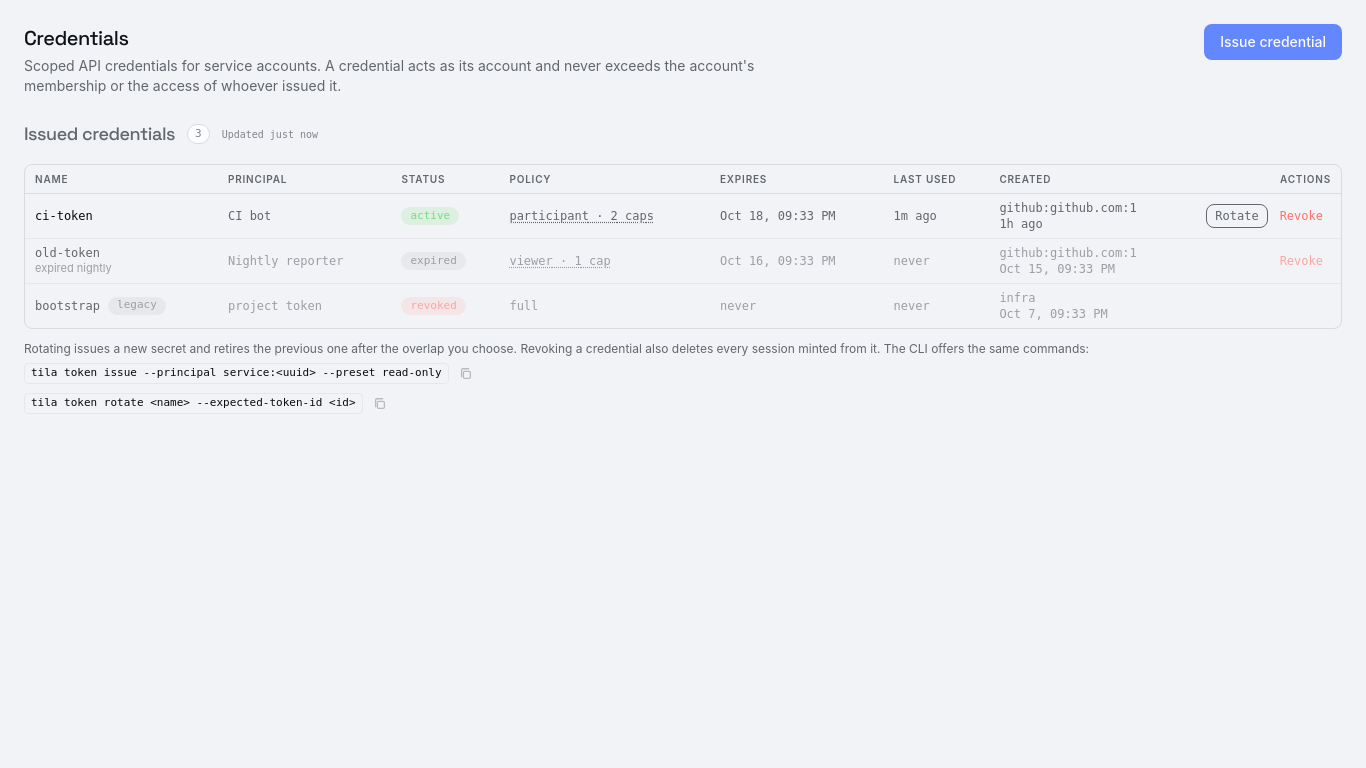
Scenario: rotation sends the listed version and shows the new secret once
Step 1. Click the button with aria-label "Rotate ci-token" → [1237, 216], box x1=1206 y1=204 x2=1268 y2=228
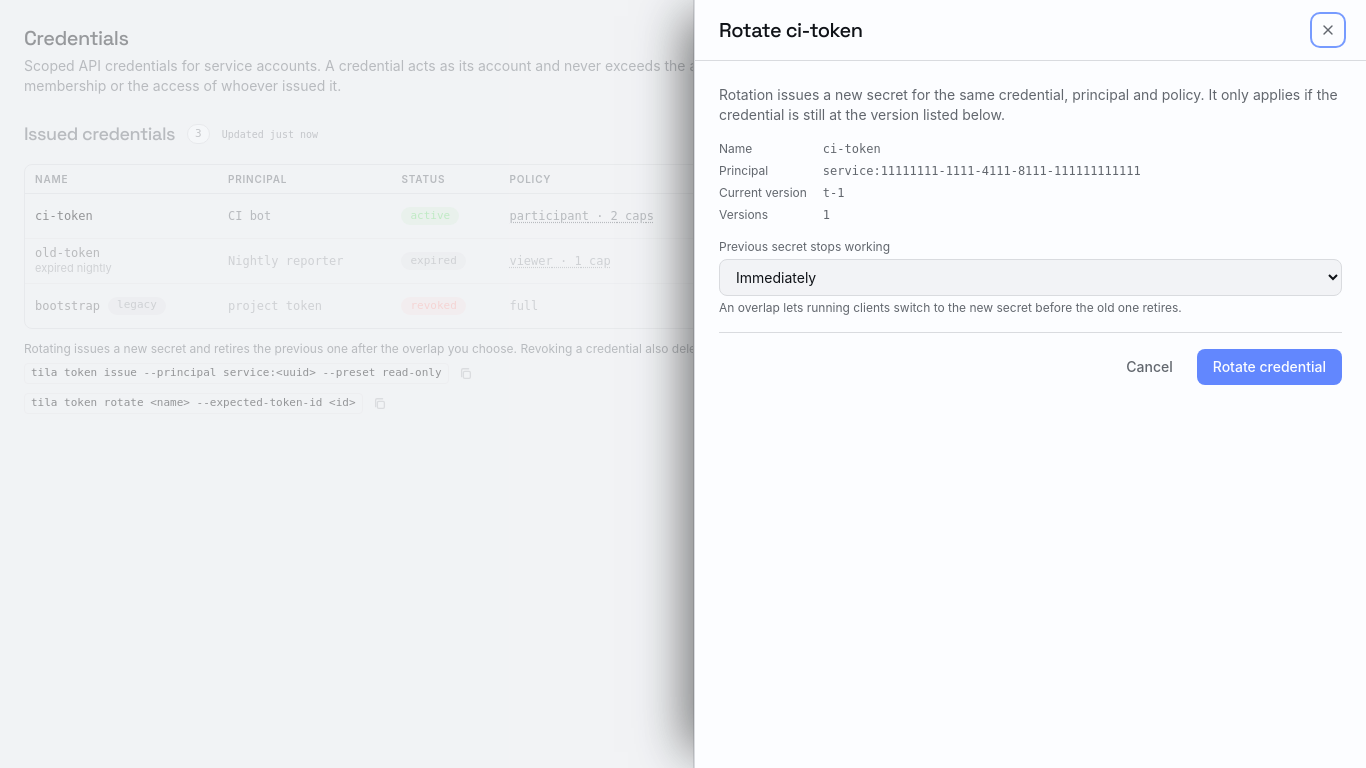
Step 2. Select "After 1 hour" in the dropdown labelled "Previous secret stops working" → [1030, 278], box x1=719 y1=259 x2=1342 y2=296
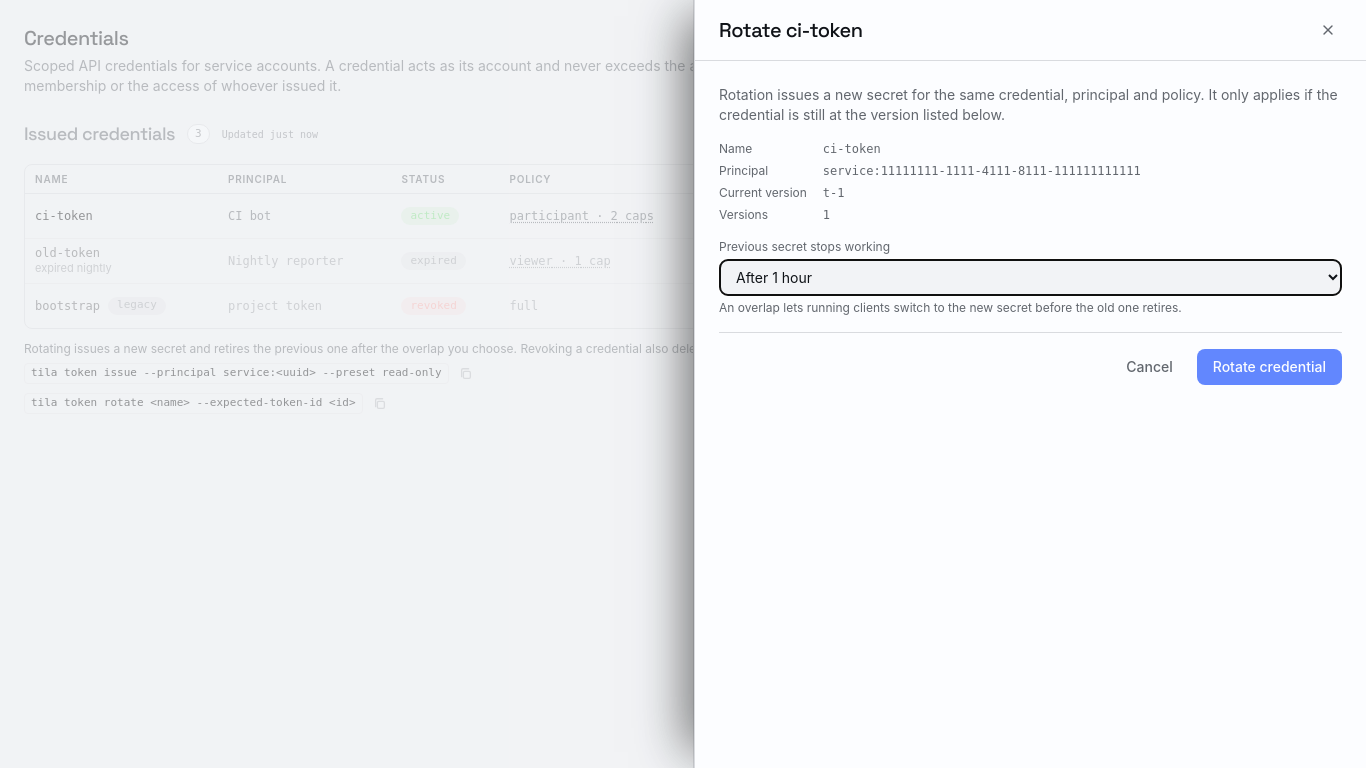
Step 3. Click the button "Rotate credential" → [1269, 367], box x1=1197 y1=349 x2=1342 y2=385
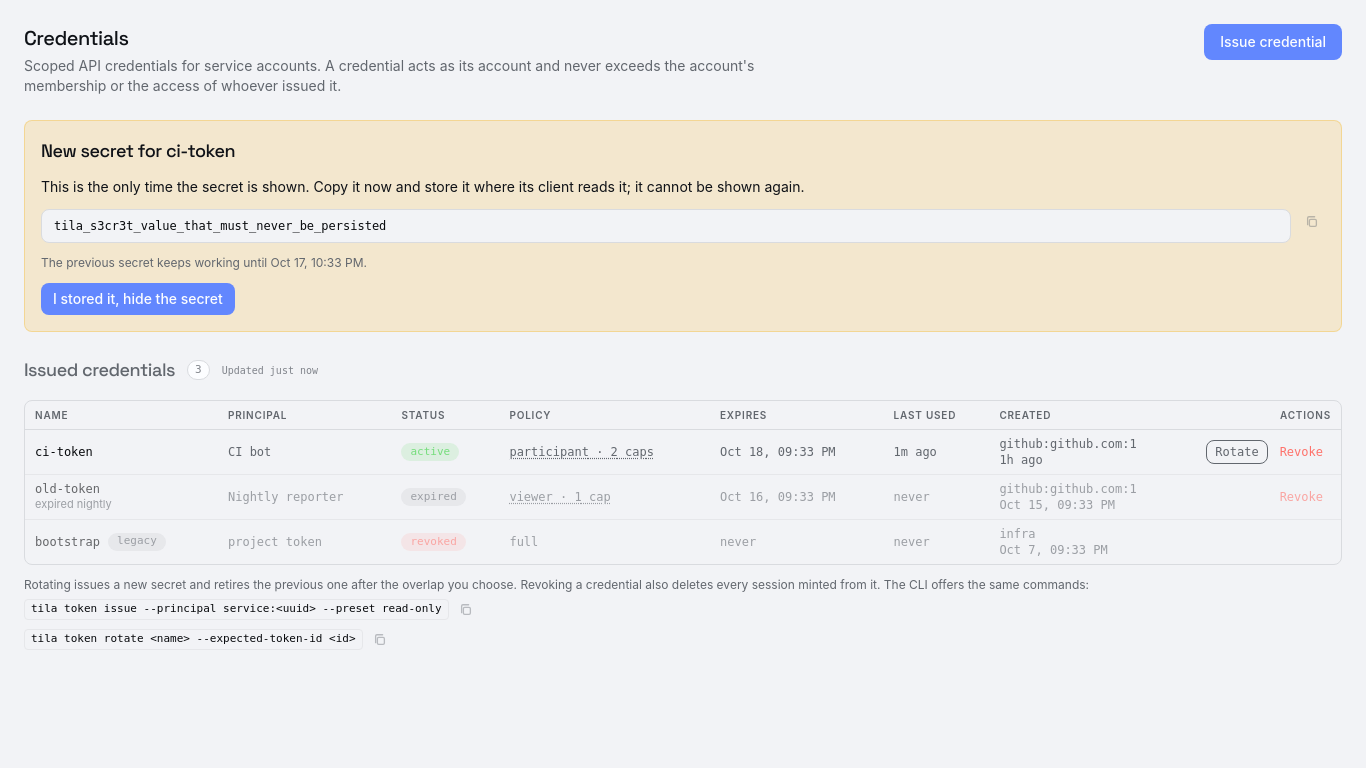
Now the text named "Secret" reads "tila_s3cr3t_value_that_must_never_be_persisted", box x1=54 y1=219 x2=386 y2=233
Now the element "New secret for ci-token" shows "previous secret keeps working until", box x1=41 y1=255 x2=367 y2=270
